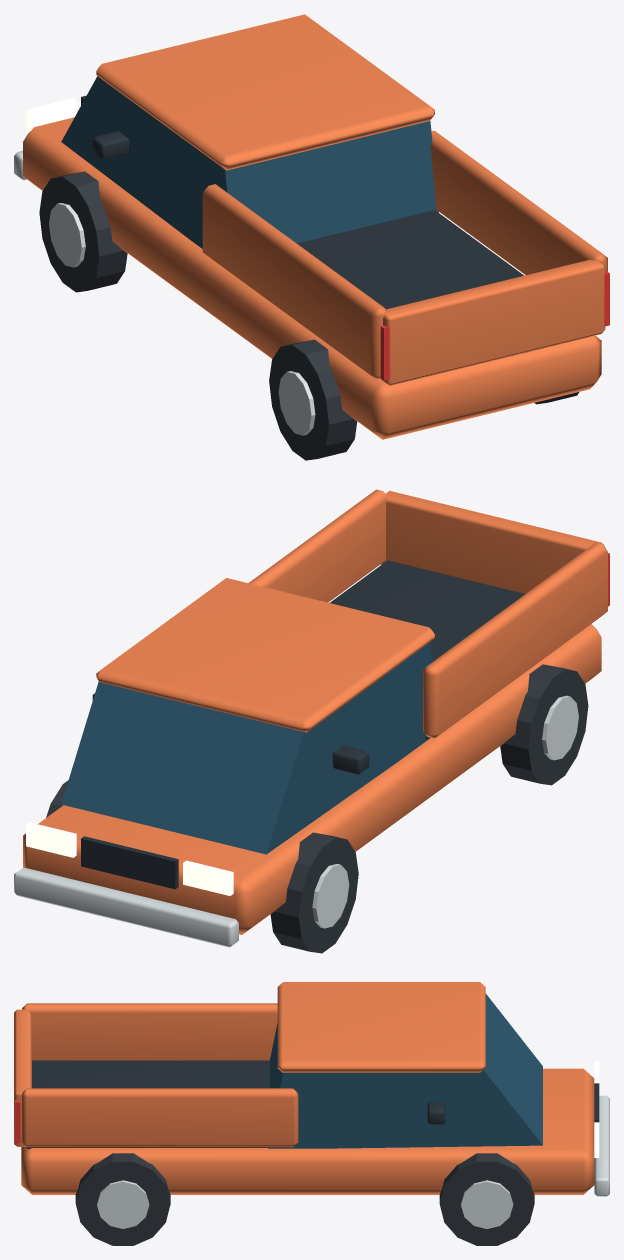
Rendered from pickup.glb.
3 views of the same model, one above another, from view 1: azimuth 30°, elevation 25°; view 2: azimuth 150°, elevation 25°; view 3: azimuth 270°, elevation 25° (orthographic). The views are drawn at different scales.
Visible parts, largest first — view 1: pickup_roof, pickup_chassis, pickup_cab, pickup_tailgate, pickup_bed_side, pickup_bed_floor, pickup_bed_side.001, pickup_tire, pickup_tire.001, pickup_hub, pickup_hub.001, pickup_headlamp (+1 smaller); view 2: pickup_cab, pickup_roof, pickup_chassis, pickup_bed_side, pickup_tailgate, pickup_bed_floor, pickup_bed_side.001, pickup_front_bumper, pickup_tire.001, pickup_tire, pickup_grille, pickup_hub (+4 smaller); view 3: pickup_chassis, pickup_cab, pickup_roof, pickup_bed_side.001, pickup_bed_side, pickup_bed_floor, pickup_tire.003, pickup_tire.002, pickup_hub.002, pickup_hub.003, pickup_tailgate, pickup_front_bumper (+1 smaller).
Part boxes in pixels (<box>): pickup_roof: <box>96,14,434,170</box>; pickup_chassis: <box>23,117,601,439</box>; pickup_cab: <box>61,76,438,248</box>; pickup_tailgate: <box>380,259,605,385</box>; pickup_bed_side: <box>202,184,386,379</box>; pickup_bed_floor: <box>297,210,587,385</box>; pickup_bed_side.001: <box>430,130,607,274</box>; pickup_tire: <box>269,339,357,460</box>; pickup_tire.001: <box>39,171,127,292</box>; pickup_hub: <box>278,371,315,435</box>; pickup_hub.001: <box>49,203,85,267</box>; pickup_headlamp: <box>26,98,76,132</box>; pickup_cab: <box>61,642,432,854</box>; pickup_roof: <box>96,578,434,732</box>; pickup_chassis: <box>23,624,601,934</box>; pickup_bed_side: <box>423,543,607,738</box>; pickup_tailgate: <box>380,490,605,593</box>; pickup_bed_floor: <box>330,560,524,739</box>; pickup_bed_side.001: <box>248,489,386,602</box>; pickup_front_bumper: <box>14,867,238,947</box>; pickup_tire.001: <box>270,832,358,953</box>; pickup_tire: <box>500,664,588,785</box>; pickup_grille: <box>81,836,178,889</box>; pickup_hub: <box>542,695,578,760</box>; pickup_chassis: <box>21,1068,594,1194</box>; pickup_cab: <box>268,993,542,1148</box>; pickup_roof: <box>277,982,485,1072</box>; pickup_bed_side.001: <box>22,1088,298,1147</box>; pickup_bed_side: <box>22,1003,277,1060</box>; pickup_bed_floor: <box>25,1060,289,1149</box>; pickup_tire.003: <box>439,1153,534,1245</box>; pickup_tire.002: <box>75,1153,170,1245</box>; pickup_hub.002: <box>97,1180,149,1228</box>; pickup_hub.003: <box>461,1180,513,1228</box>; pickup_tailgate: <box>14,1009,31,1146</box>; pickup_front_bumper: <box>594,1095,609,1196</box>.
Size of the model in its own units: 2.33 by 1.82 by 5.65.
